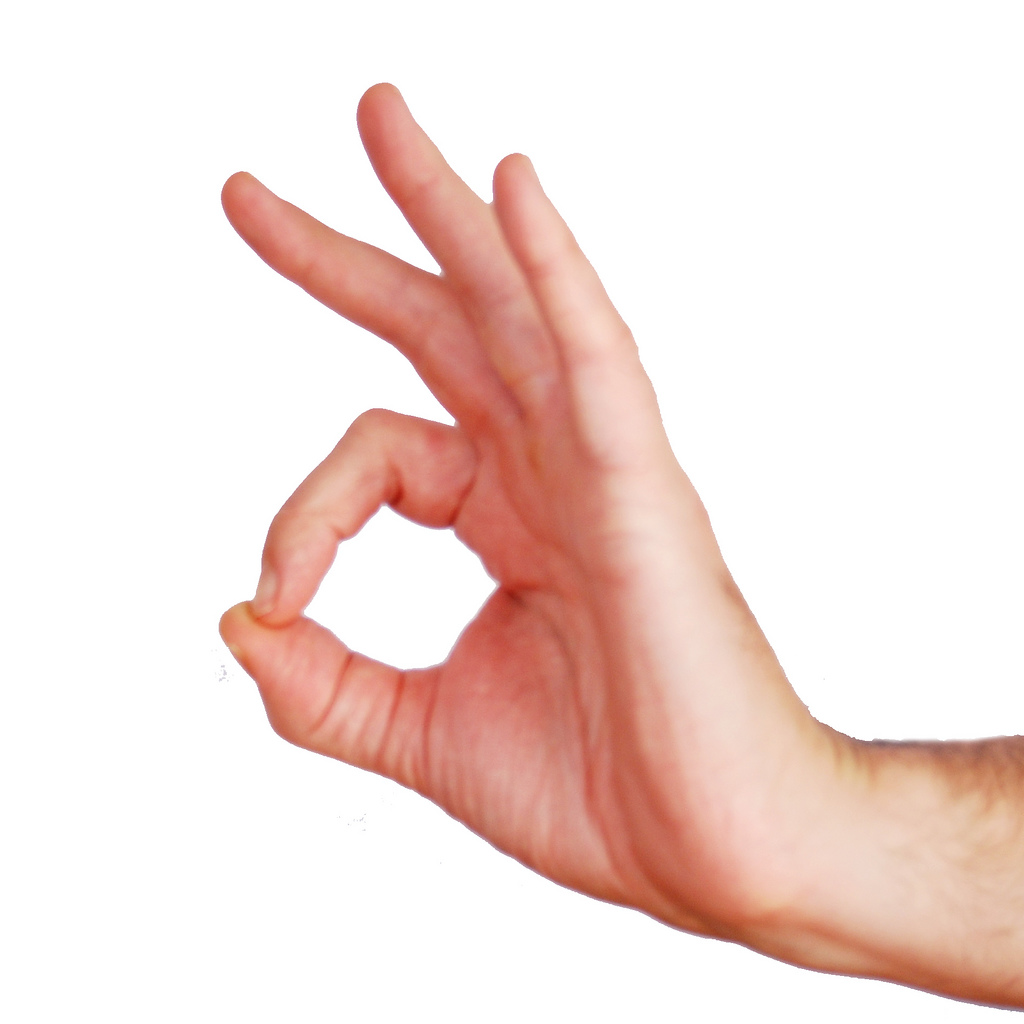oksign: (191, 98, 736, 932)
